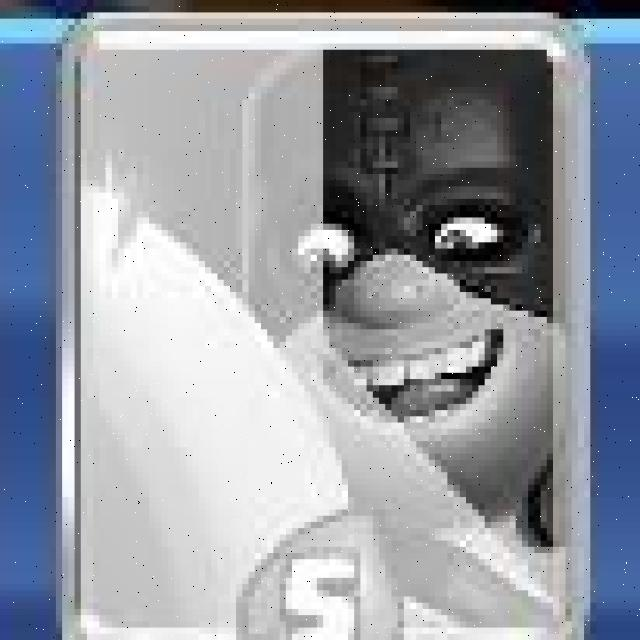Executioner: (58, 12, 593, 640)
